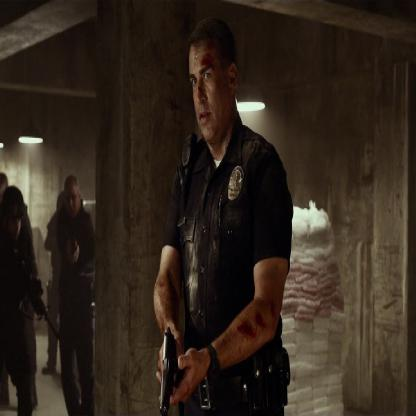Gun: (9, 251, 58, 342), (151, 320, 182, 415)
